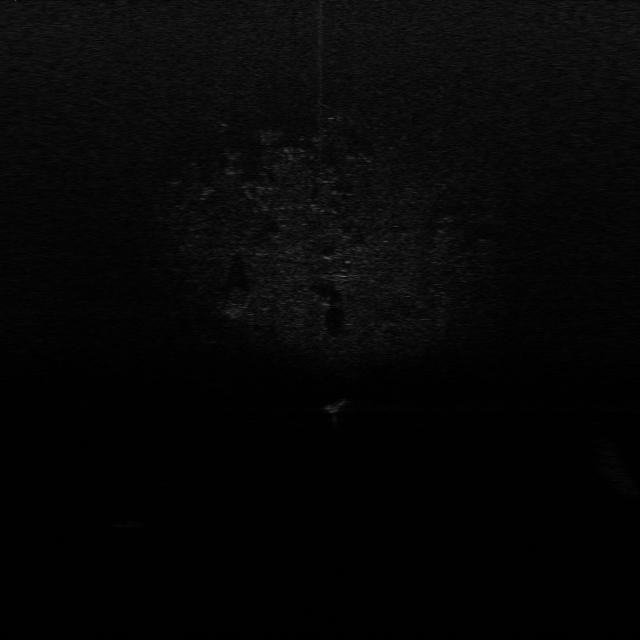square cage: (320, 393, 350, 417)
